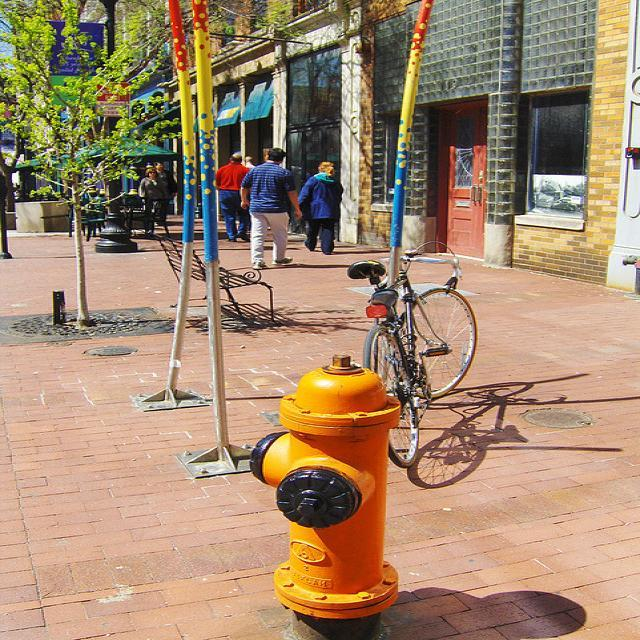fire_hydrant: (238, 356, 404, 615)
